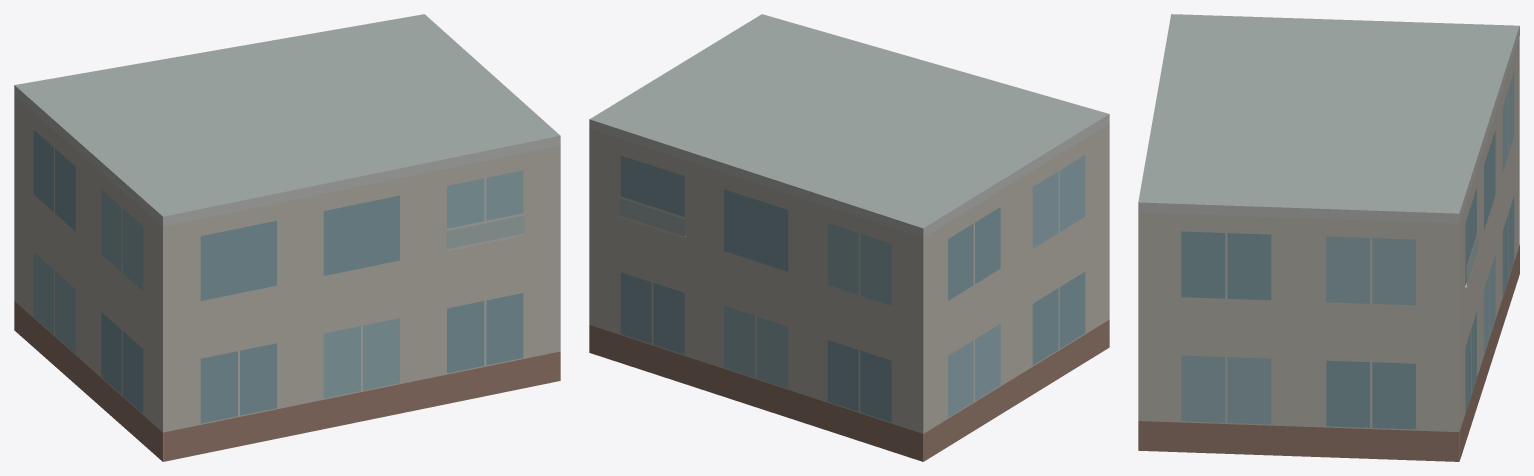
File: survey-upis-32621521.glb
The picture shows the model from 3 angles, left to right: view 1: azimuth 30°, elevation 25°; view 2: azimuth 150°, elevation 25°; view 3: azimuth 270°, elevation 25°; orthographic projection. The views are drawn at different scales.
Visible parts, largest first — view 1: survey-upis-32621521.tmp; view 2: survey-upis-32621521.tmp; view 3: survey-upis-32621521.tmp.
Part boxes in pixels (box(x1,y1,x2,y2)): survey-upis-32621521.tmp: box(14, 14, 560, 461); survey-upis-32621521.tmp: box(589, 14, 1109, 461); survey-upis-32621521.tmp: box(1138, 14, 1519, 461).
Size of the model in its own units: 10.53 by 6.1 by 8.51.
